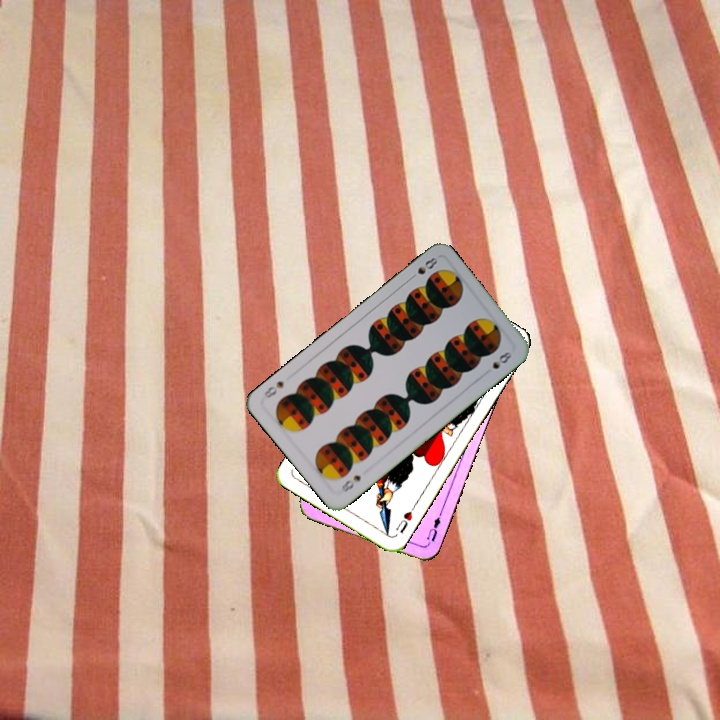EU: (420, 509, 444, 549)
HU: (392, 501, 418, 536)
S8: (405, 253, 440, 283), (337, 471, 364, 497)
